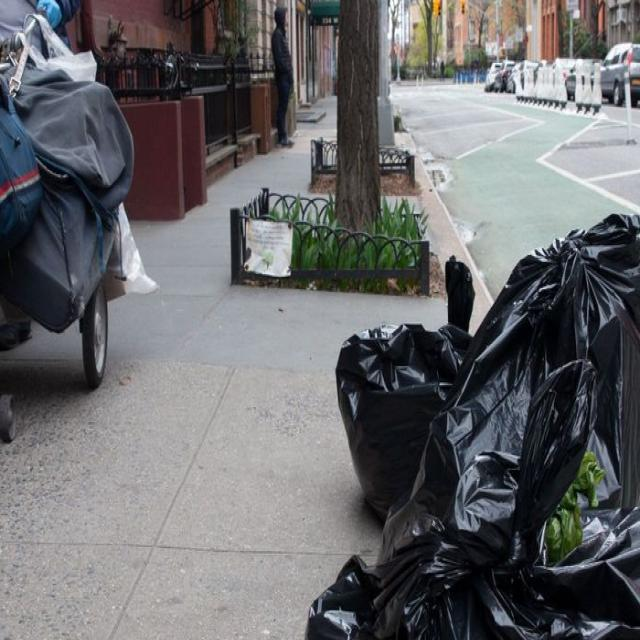Trashbag: (457, 217, 640, 502), (302, 489, 640, 640), (330, 315, 470, 517)
